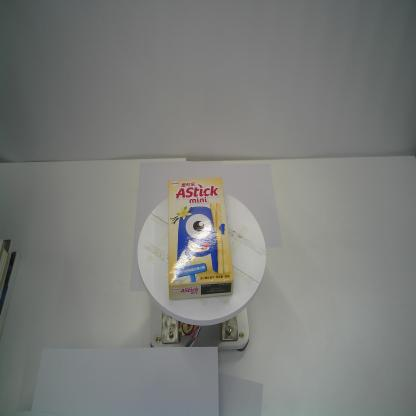Dessert: (167, 176, 235, 300)
